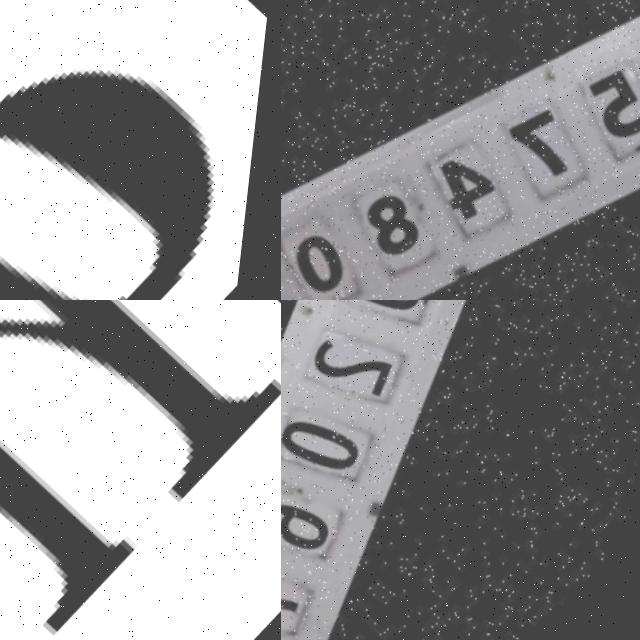0: (281, 364, 401, 504), (281, 192, 399, 300), (309, 300, 460, 344)
2: (283, 300, 429, 425)
4: (402, 108, 548, 246)
5: (552, 24, 640, 164)
6: (281, 445, 372, 582)
7: (478, 72, 620, 206), (281, 525, 340, 640)
8: (0, 0, 281, 300), (329, 151, 473, 286)
M: (0, 300, 281, 640)
